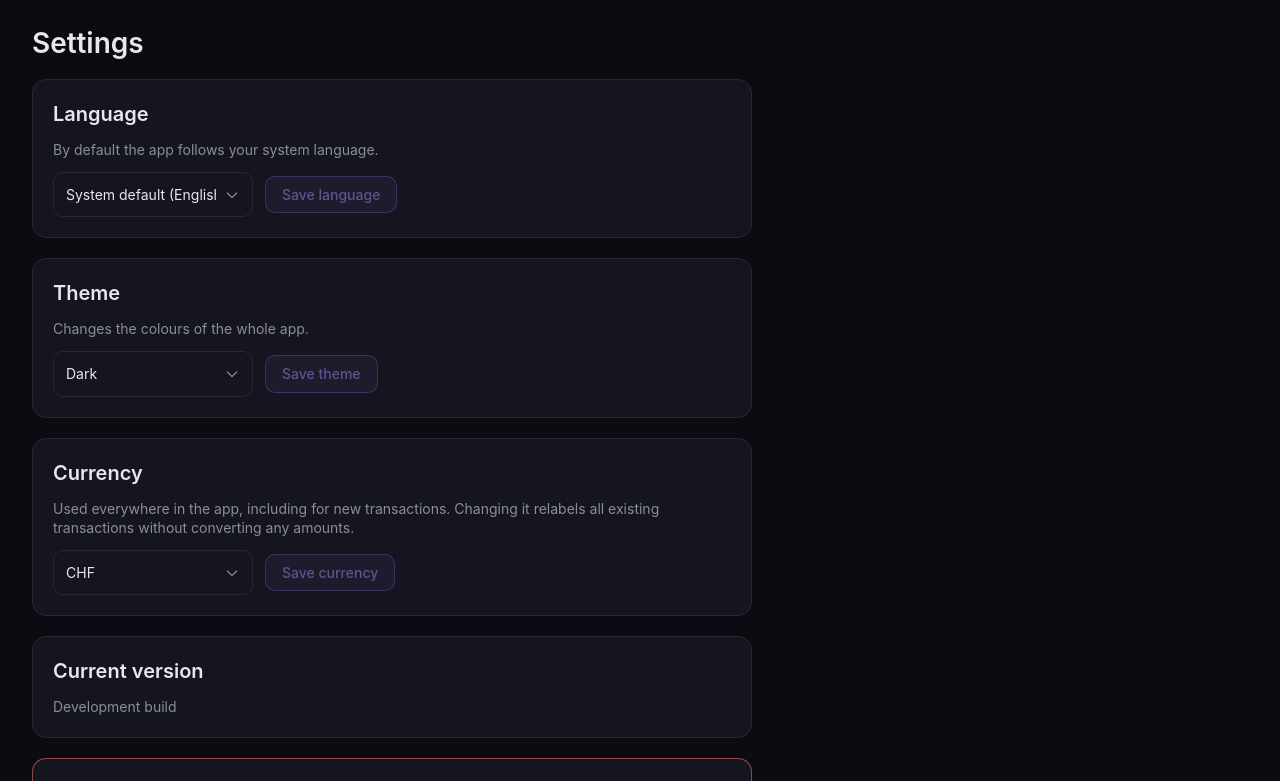
Scenario: SettingsPage currency › saving a new currency asks for confirmation, then updates and reloads the settings
Check: the button "Save currency" is disabled, box [265,554,395,591]
Click the button "CHF" at (153, 573), box [53,550,253,595]
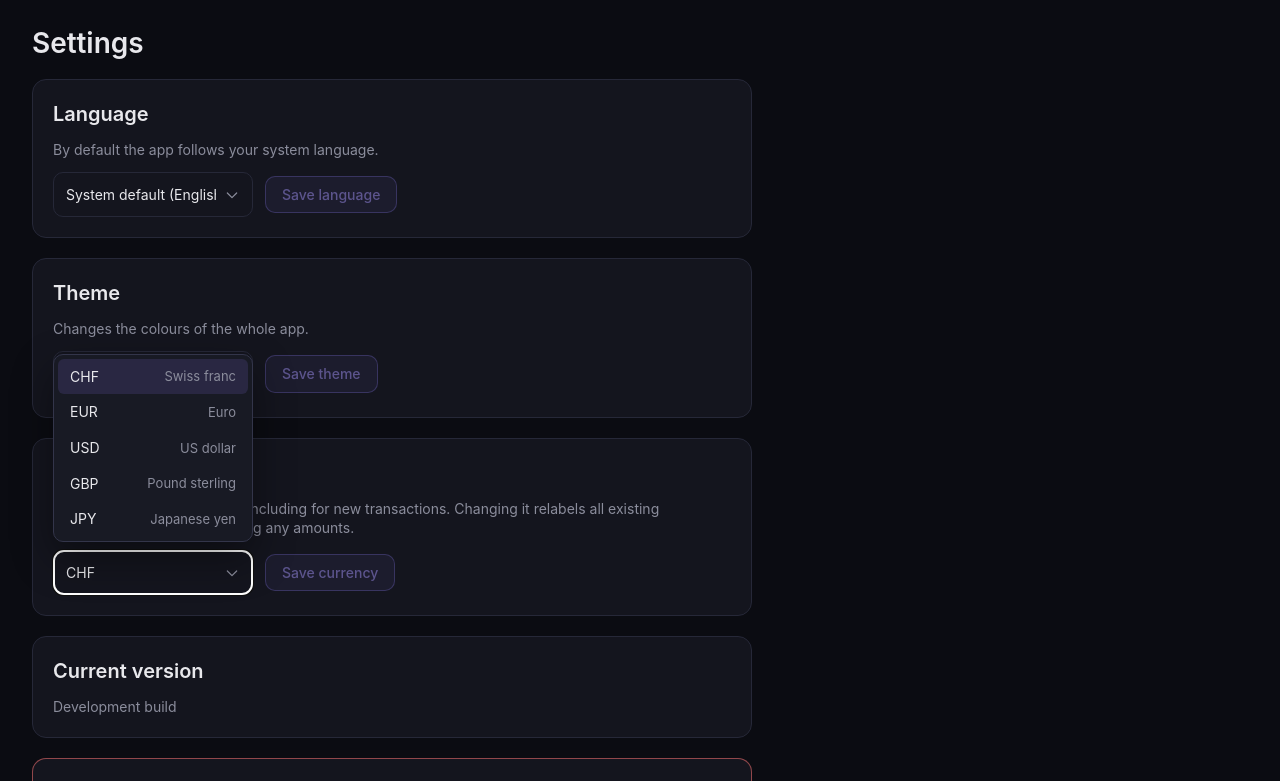
Click the option "EUR Euro" at (153, 412), box [58,394,248,430]
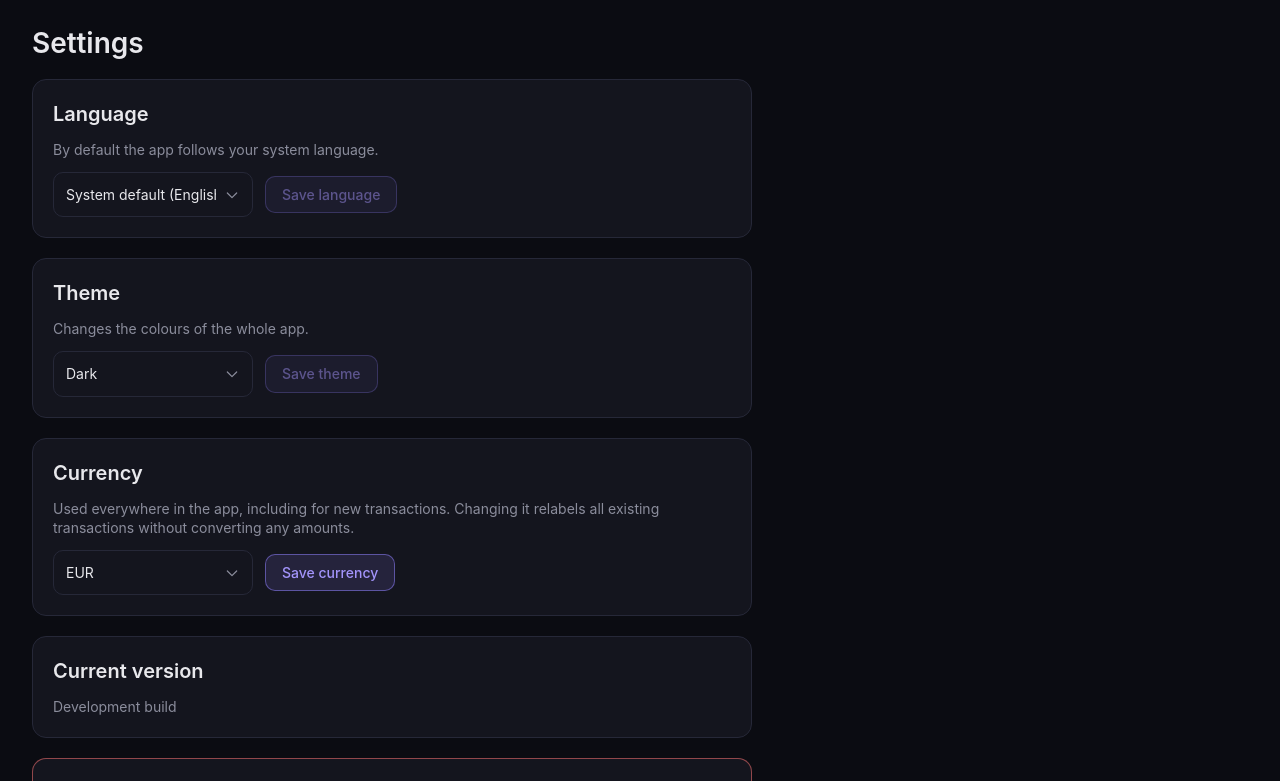
Click the button "Save currency" at (330, 573), box [265,554,395,591]
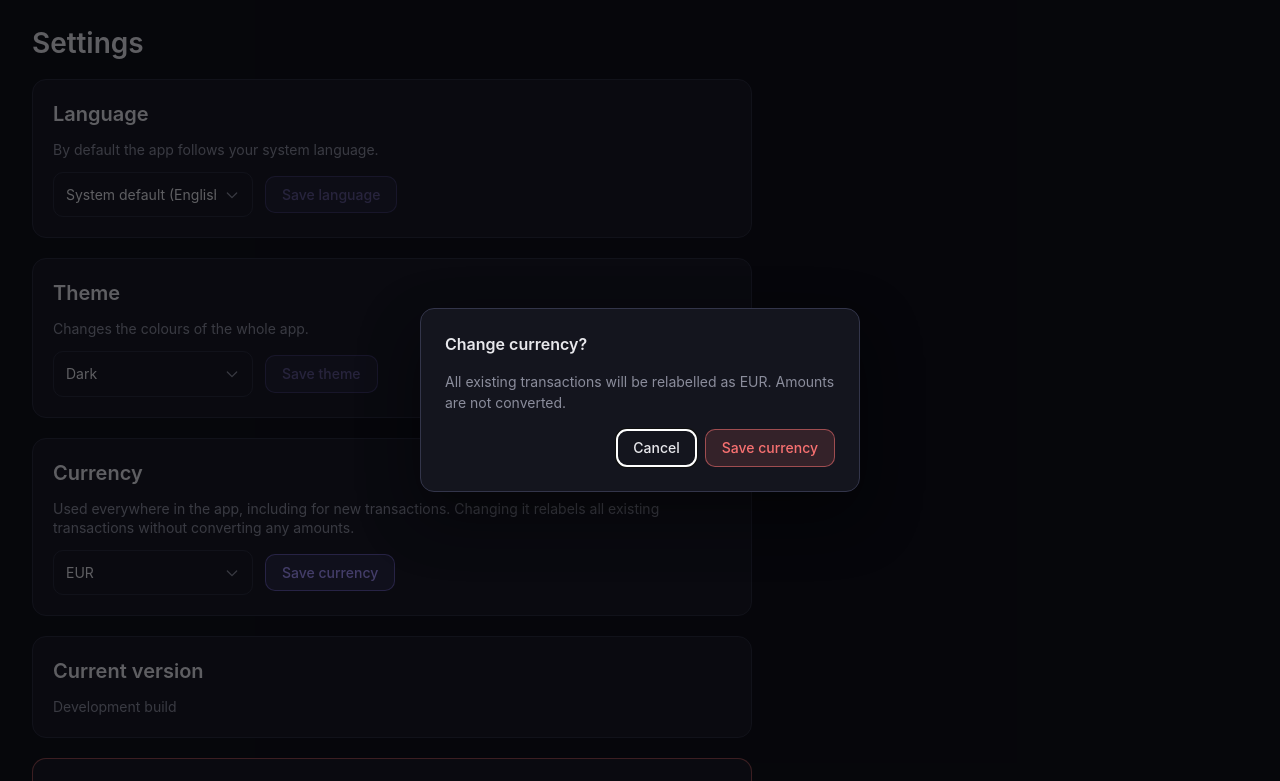
Click the button "Save currency" at (770, 448), box [705,429,835,467]
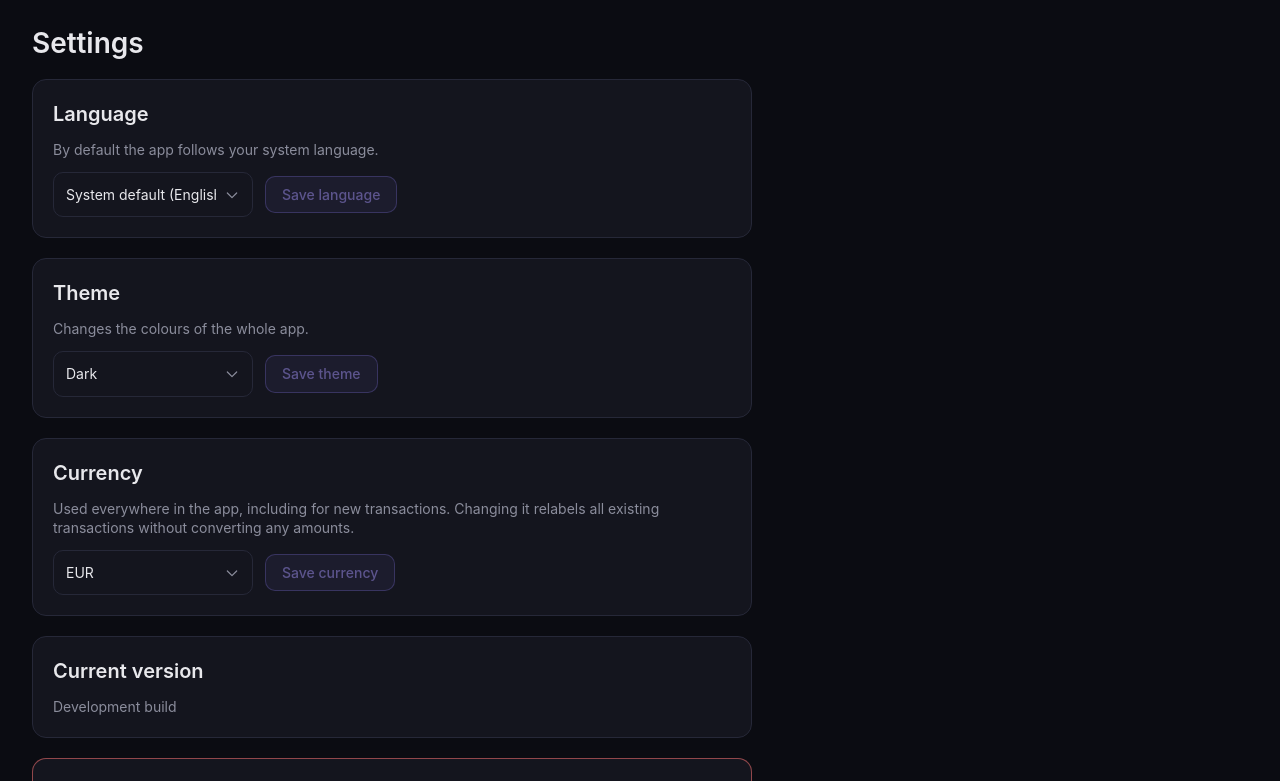
Check: the dialog is gone
Check: the button "Save currency" is disabled, box [265,554,395,591]
